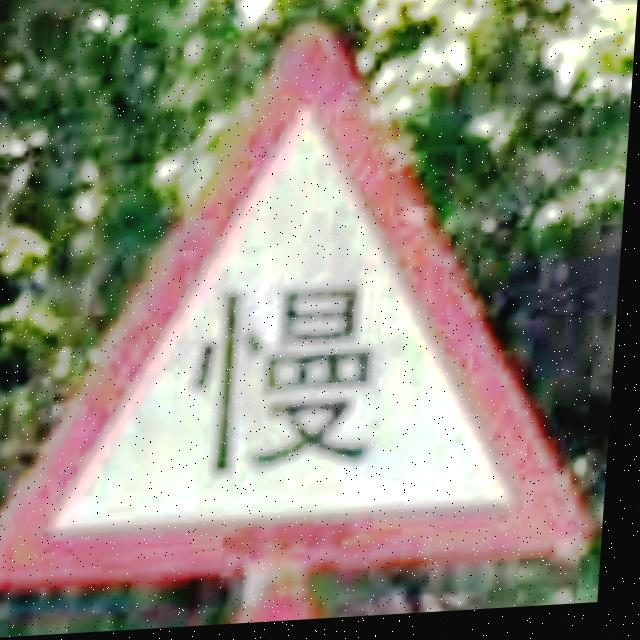slow: (0, 32, 600, 584)
